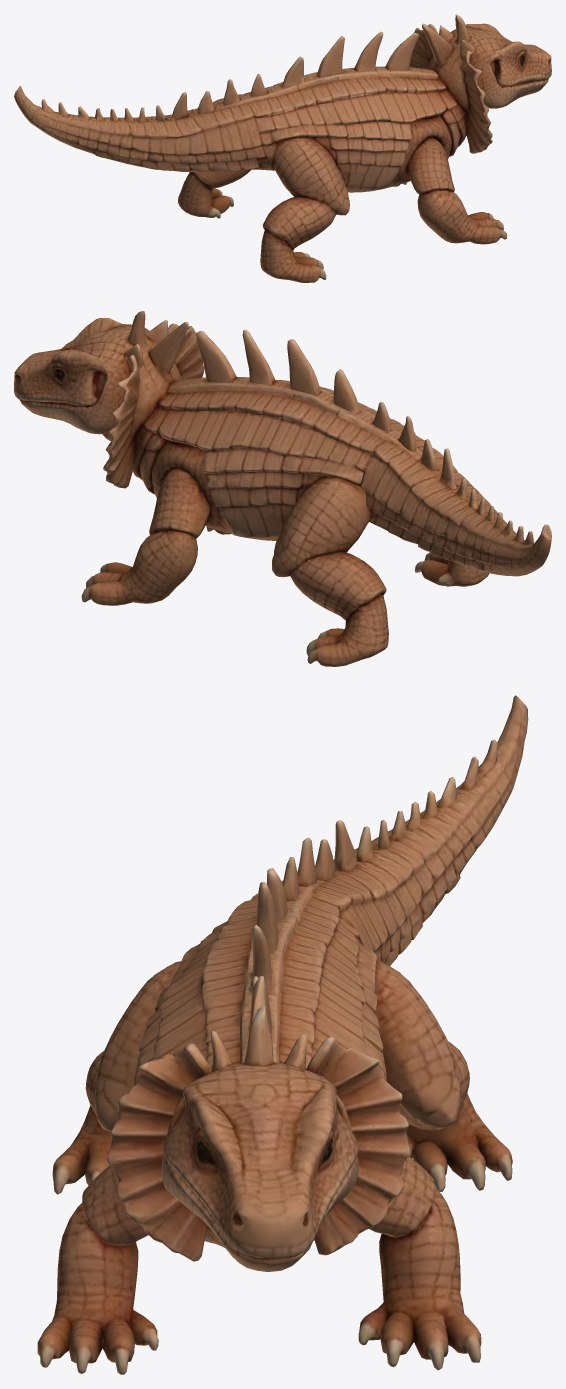
File: sandLizard.glb
3 renders of one model, top to bottom at view 1: azimuth 30°, elevation 25°; view 2: azimuth 150°, elevation 25°; view 3: azimuth 270°, elevation 25°, orthographic. The views are drawn at different scales.
Parts seen in each view (by area): view 1: geometry_0; view 2: geometry_0; view 3: geometry_0.
Boxes of the visible parts, x1,y1,x2,y2 form: geometry_0: (14, 14, 551, 282); geometry_0: (14, 311, 551, 666); geometry_0: (37, 695, 528, 1374).
Size of the model in its own units: 0.9998 by 0.3862 by 0.4504.
1 material, 1 textured.
